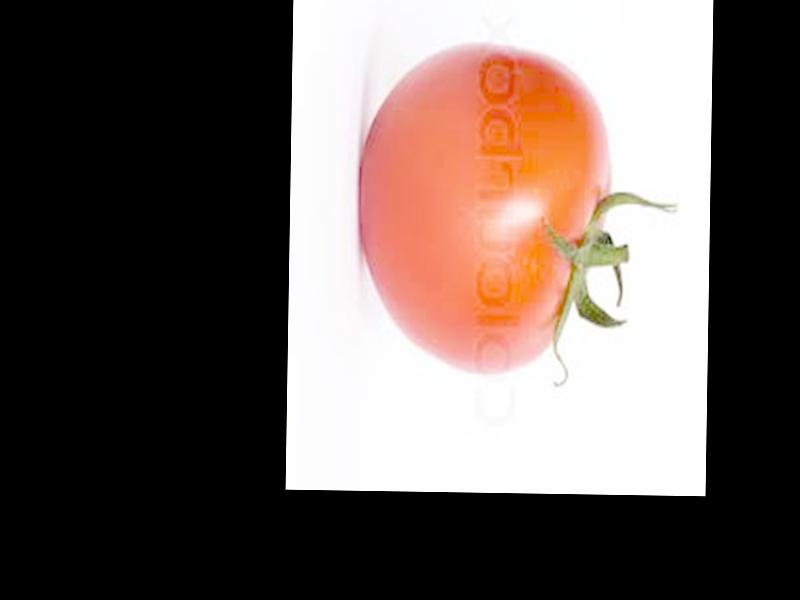Tomato: (359, 42, 614, 372)
